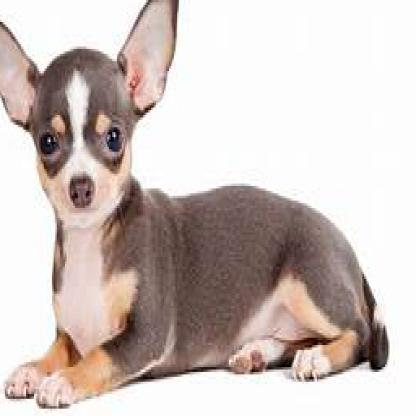dog: (2, 0, 390, 411)
